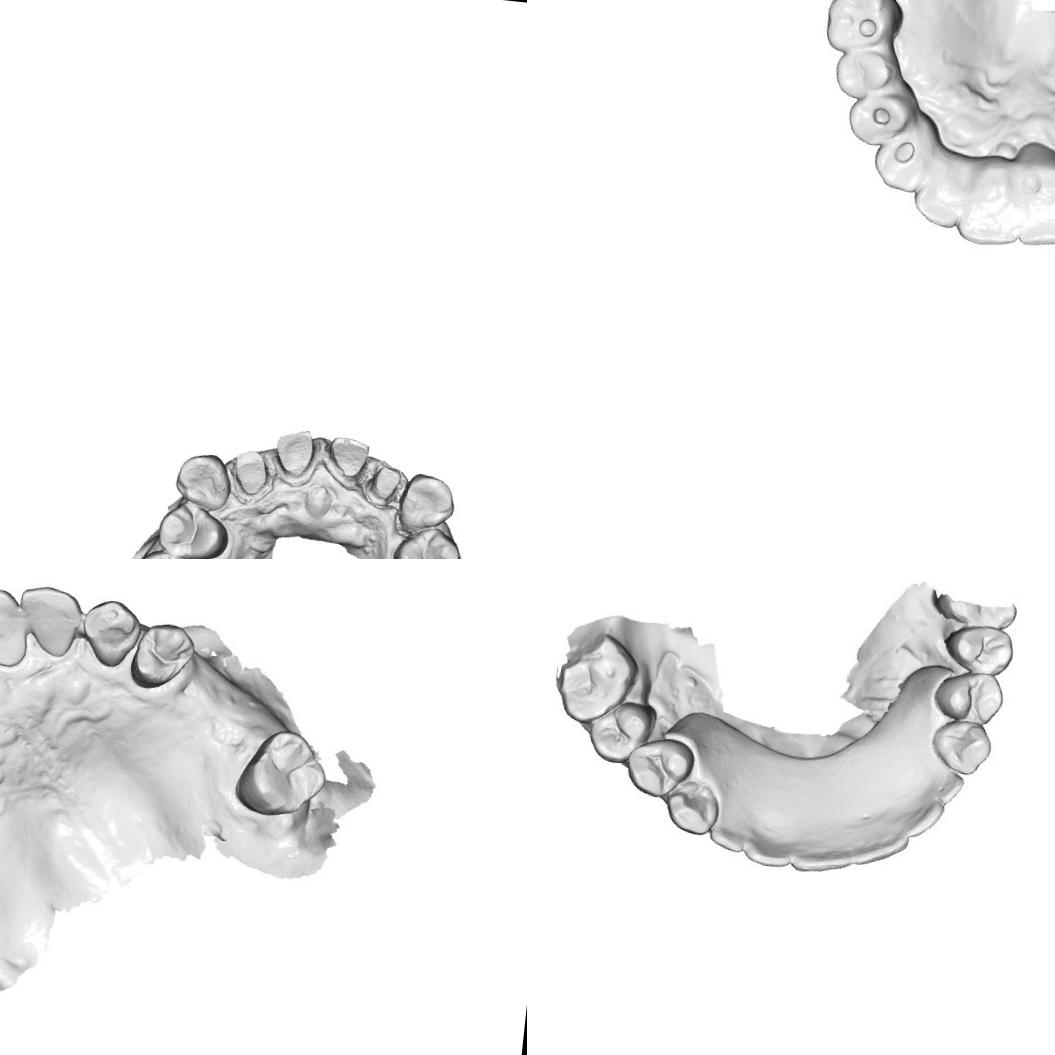canine: (76, 596, 146, 672), (394, 470, 458, 538), (928, 717, 994, 778), (870, 126, 930, 193), (171, 450, 234, 512), (663, 778, 720, 840)
crown: (270, 425, 318, 482), (325, 431, 372, 485), (230, 448, 271, 499), (362, 461, 403, 510)
incisor: (14, 579, 83, 662), (963, 165, 1024, 252), (914, 151, 973, 229), (1017, 161, 1055, 251), (0, 583, 33, 670)
molar: (232, 725, 334, 822), (551, 630, 639, 730), (824, 0, 910, 55)
premolar: (126, 618, 198, 696), (584, 695, 661, 766), (828, 42, 904, 105), (848, 84, 922, 148), (155, 498, 232, 559), (931, 668, 1008, 727), (942, 620, 1016, 679), (615, 740, 686, 796), (389, 522, 463, 559)
